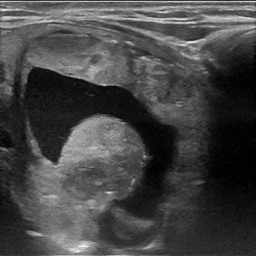mass: (20, 33, 206, 248)
